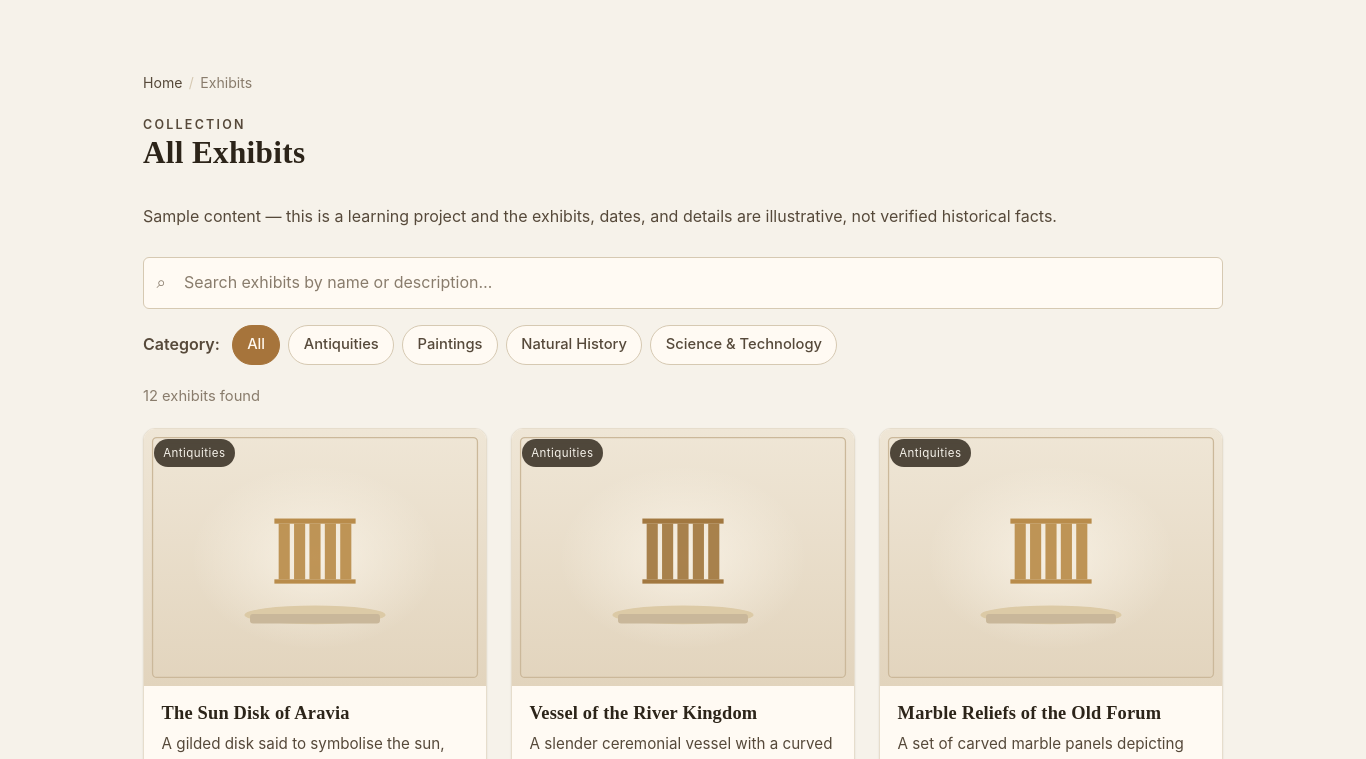
Scenario: Exhibits page › shows an empty state when nothing matches
Expected: the link "The Sun Disk of Aravia" is shown, [162,703,350,723]
Type "zzzznothingmatches" into the search field labelled "Search exhibits by name or description…" at [683, 283], box [143,257,1223,309]
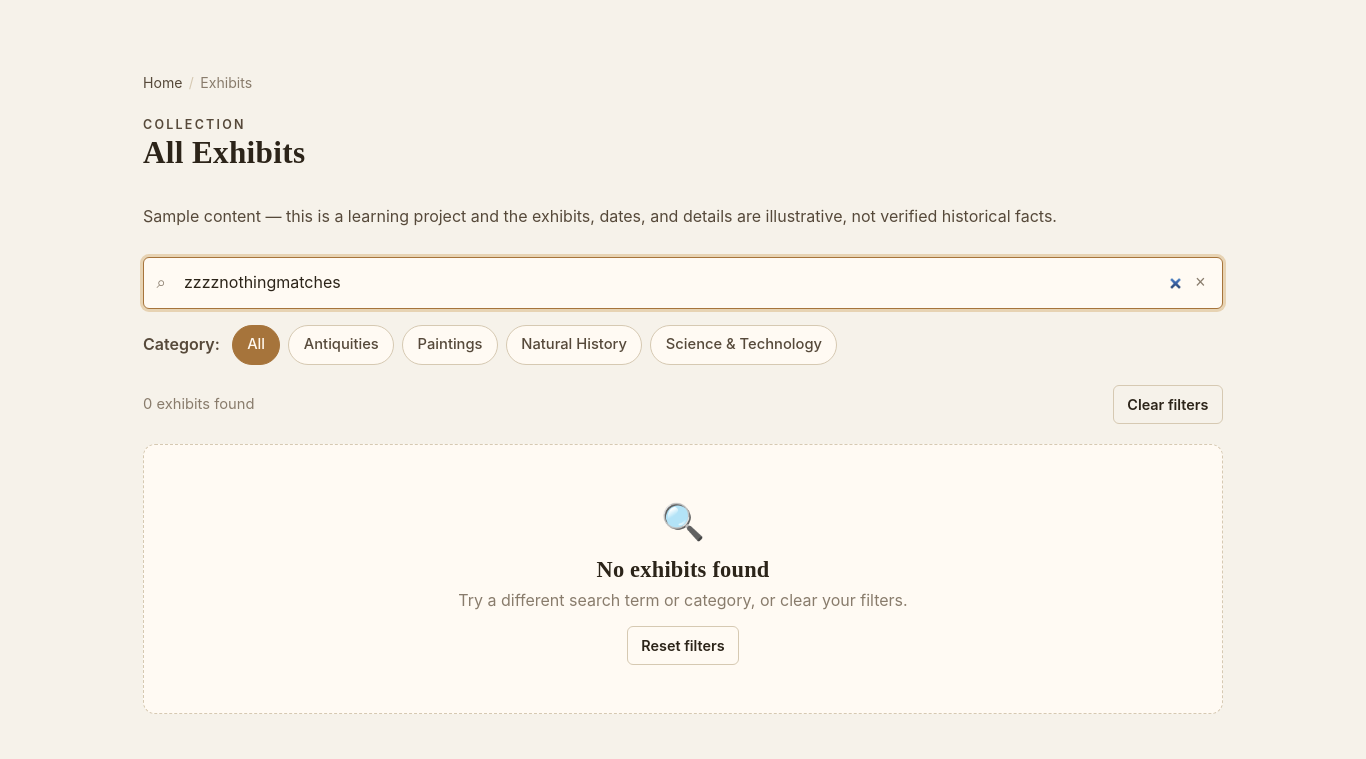
Result: the heading "No exhibits found" is shown at [596,557,770,582]
